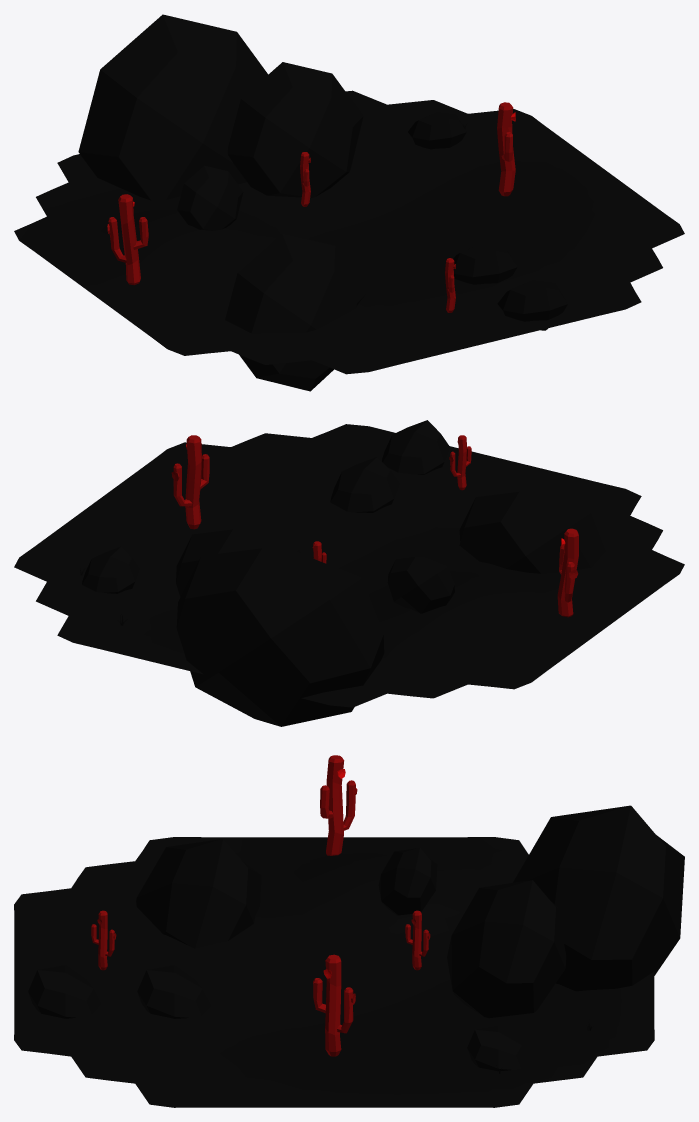
Rendered from Dessert.fbx.
The picture shows the model from 3 angles, top to bottom: view 1: azimuth 30°, elevation 25°; view 2: azimuth 150°, elevation 25°; view 3: azimuth 270°, elevation 25°; orthographic projection. The views are drawn at different scales.
Parts seen in each view (by area): view 1: group8; view 2: group8; view 3: group8.
Boxes of the visible parts, bbox=[...] form: group8: bbox=[14, 14, 684, 391]; group8: bbox=[14, 420, 684, 726]; group8: bbox=[14, 755, 684, 1107].
Size of the model in its own units: 50.95 by 19.4 by 53.36.
